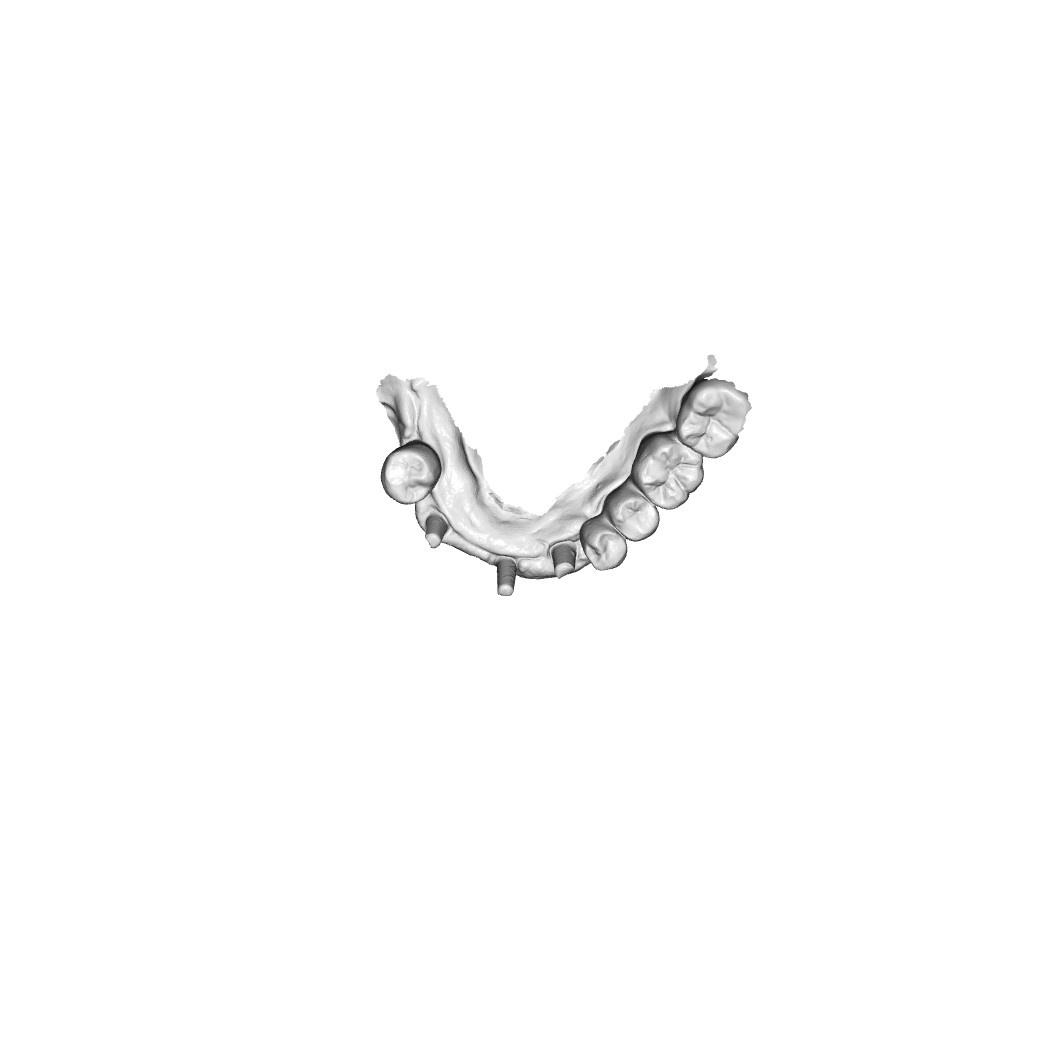abutment: (495, 553, 523, 603), (545, 543, 580, 581), (419, 513, 447, 550)
molar: (682, 383, 747, 451), (641, 440, 696, 502)
premolar: (380, 446, 433, 504), (613, 494, 658, 540), (586, 522, 627, 568)
